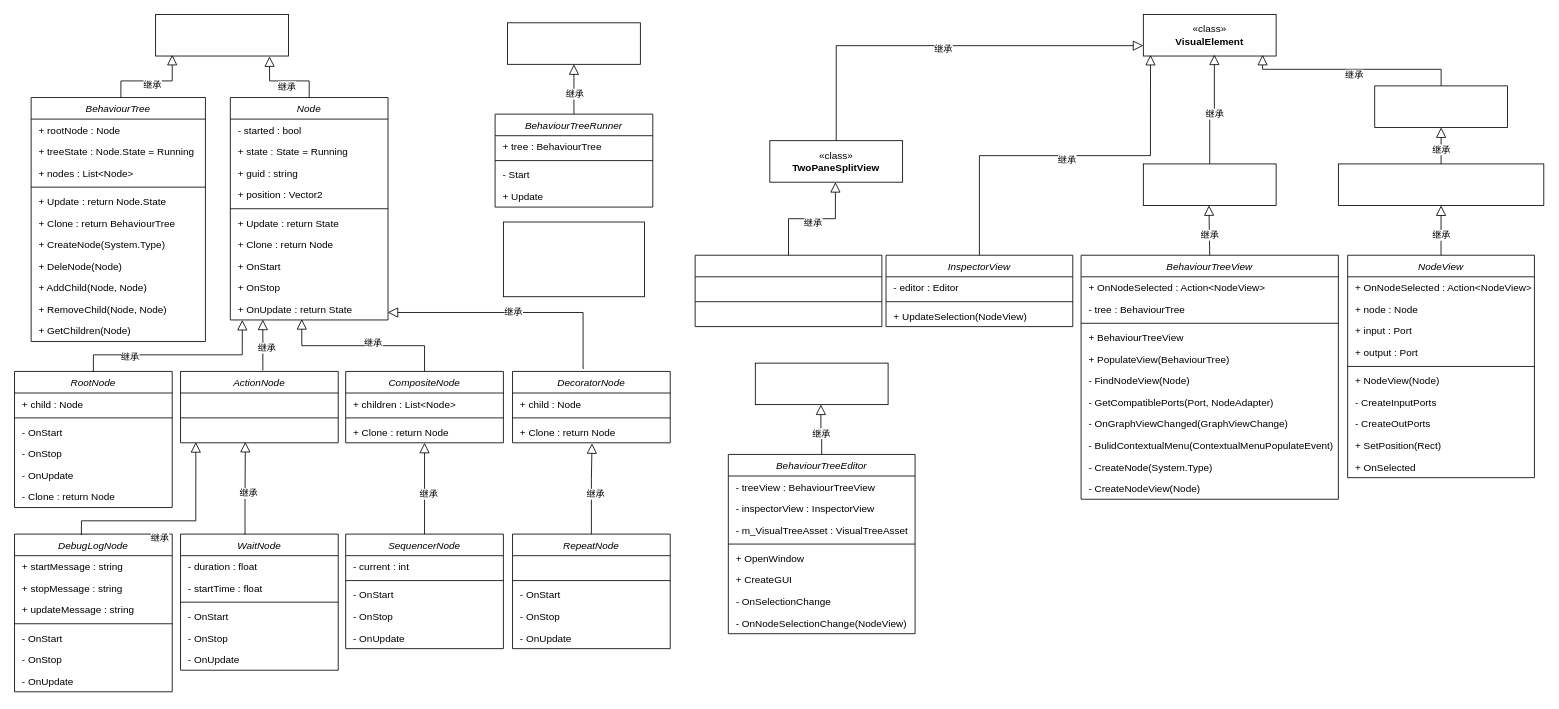
The diagram is 1559 pixels wide and 709 high, and some of its shapes have lost their labels. Here are the shapes that lost their labels. From the top down, the centre of each, then its label:
At (x=221, y=35): "«class» ScriptableObject".
At (x=573, y=43): "«class» MonoBehaviour".
At (x=1441, y=106): "«class» GraphElement".
At (x=1209, y=184): "«class» GraphView".
At (x=1441, y=184): "«class» UnityEditor.Experimental.GraphView.Node".
At (x=573, y=259): "<<enumeration>> Node.State Running Failure Success".
At (x=788, y=290): "SplitView".
At (x=821, y=383): "«class» EditorWindow".
